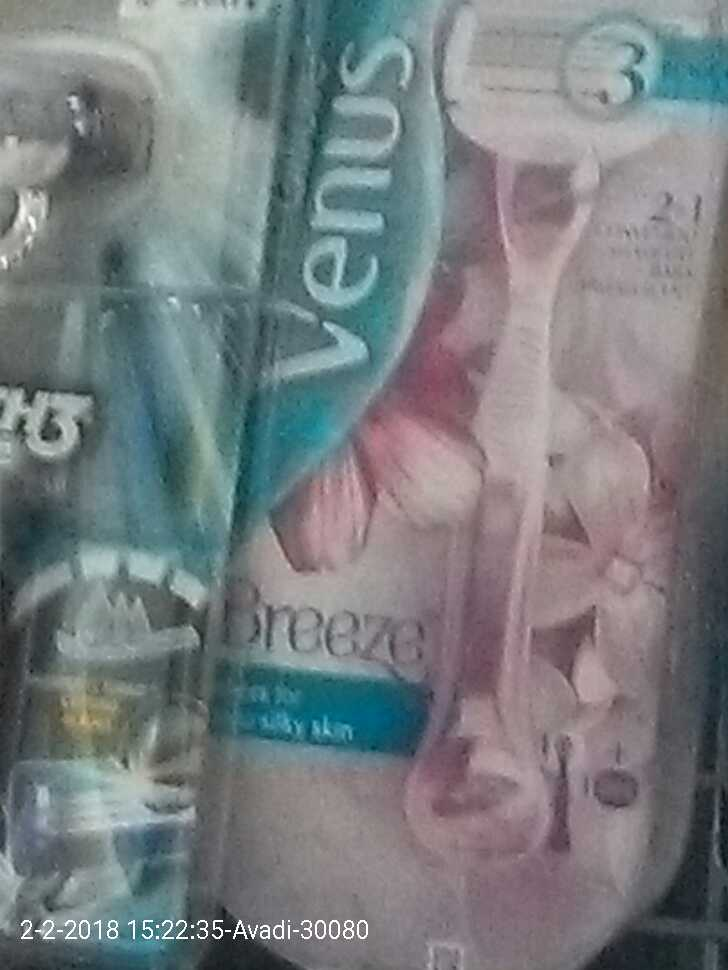beauty: (290, 18, 678, 934)
